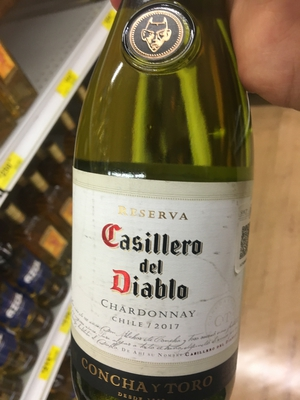casillero del diablo chardonnay: (70, 10, 256, 400)
